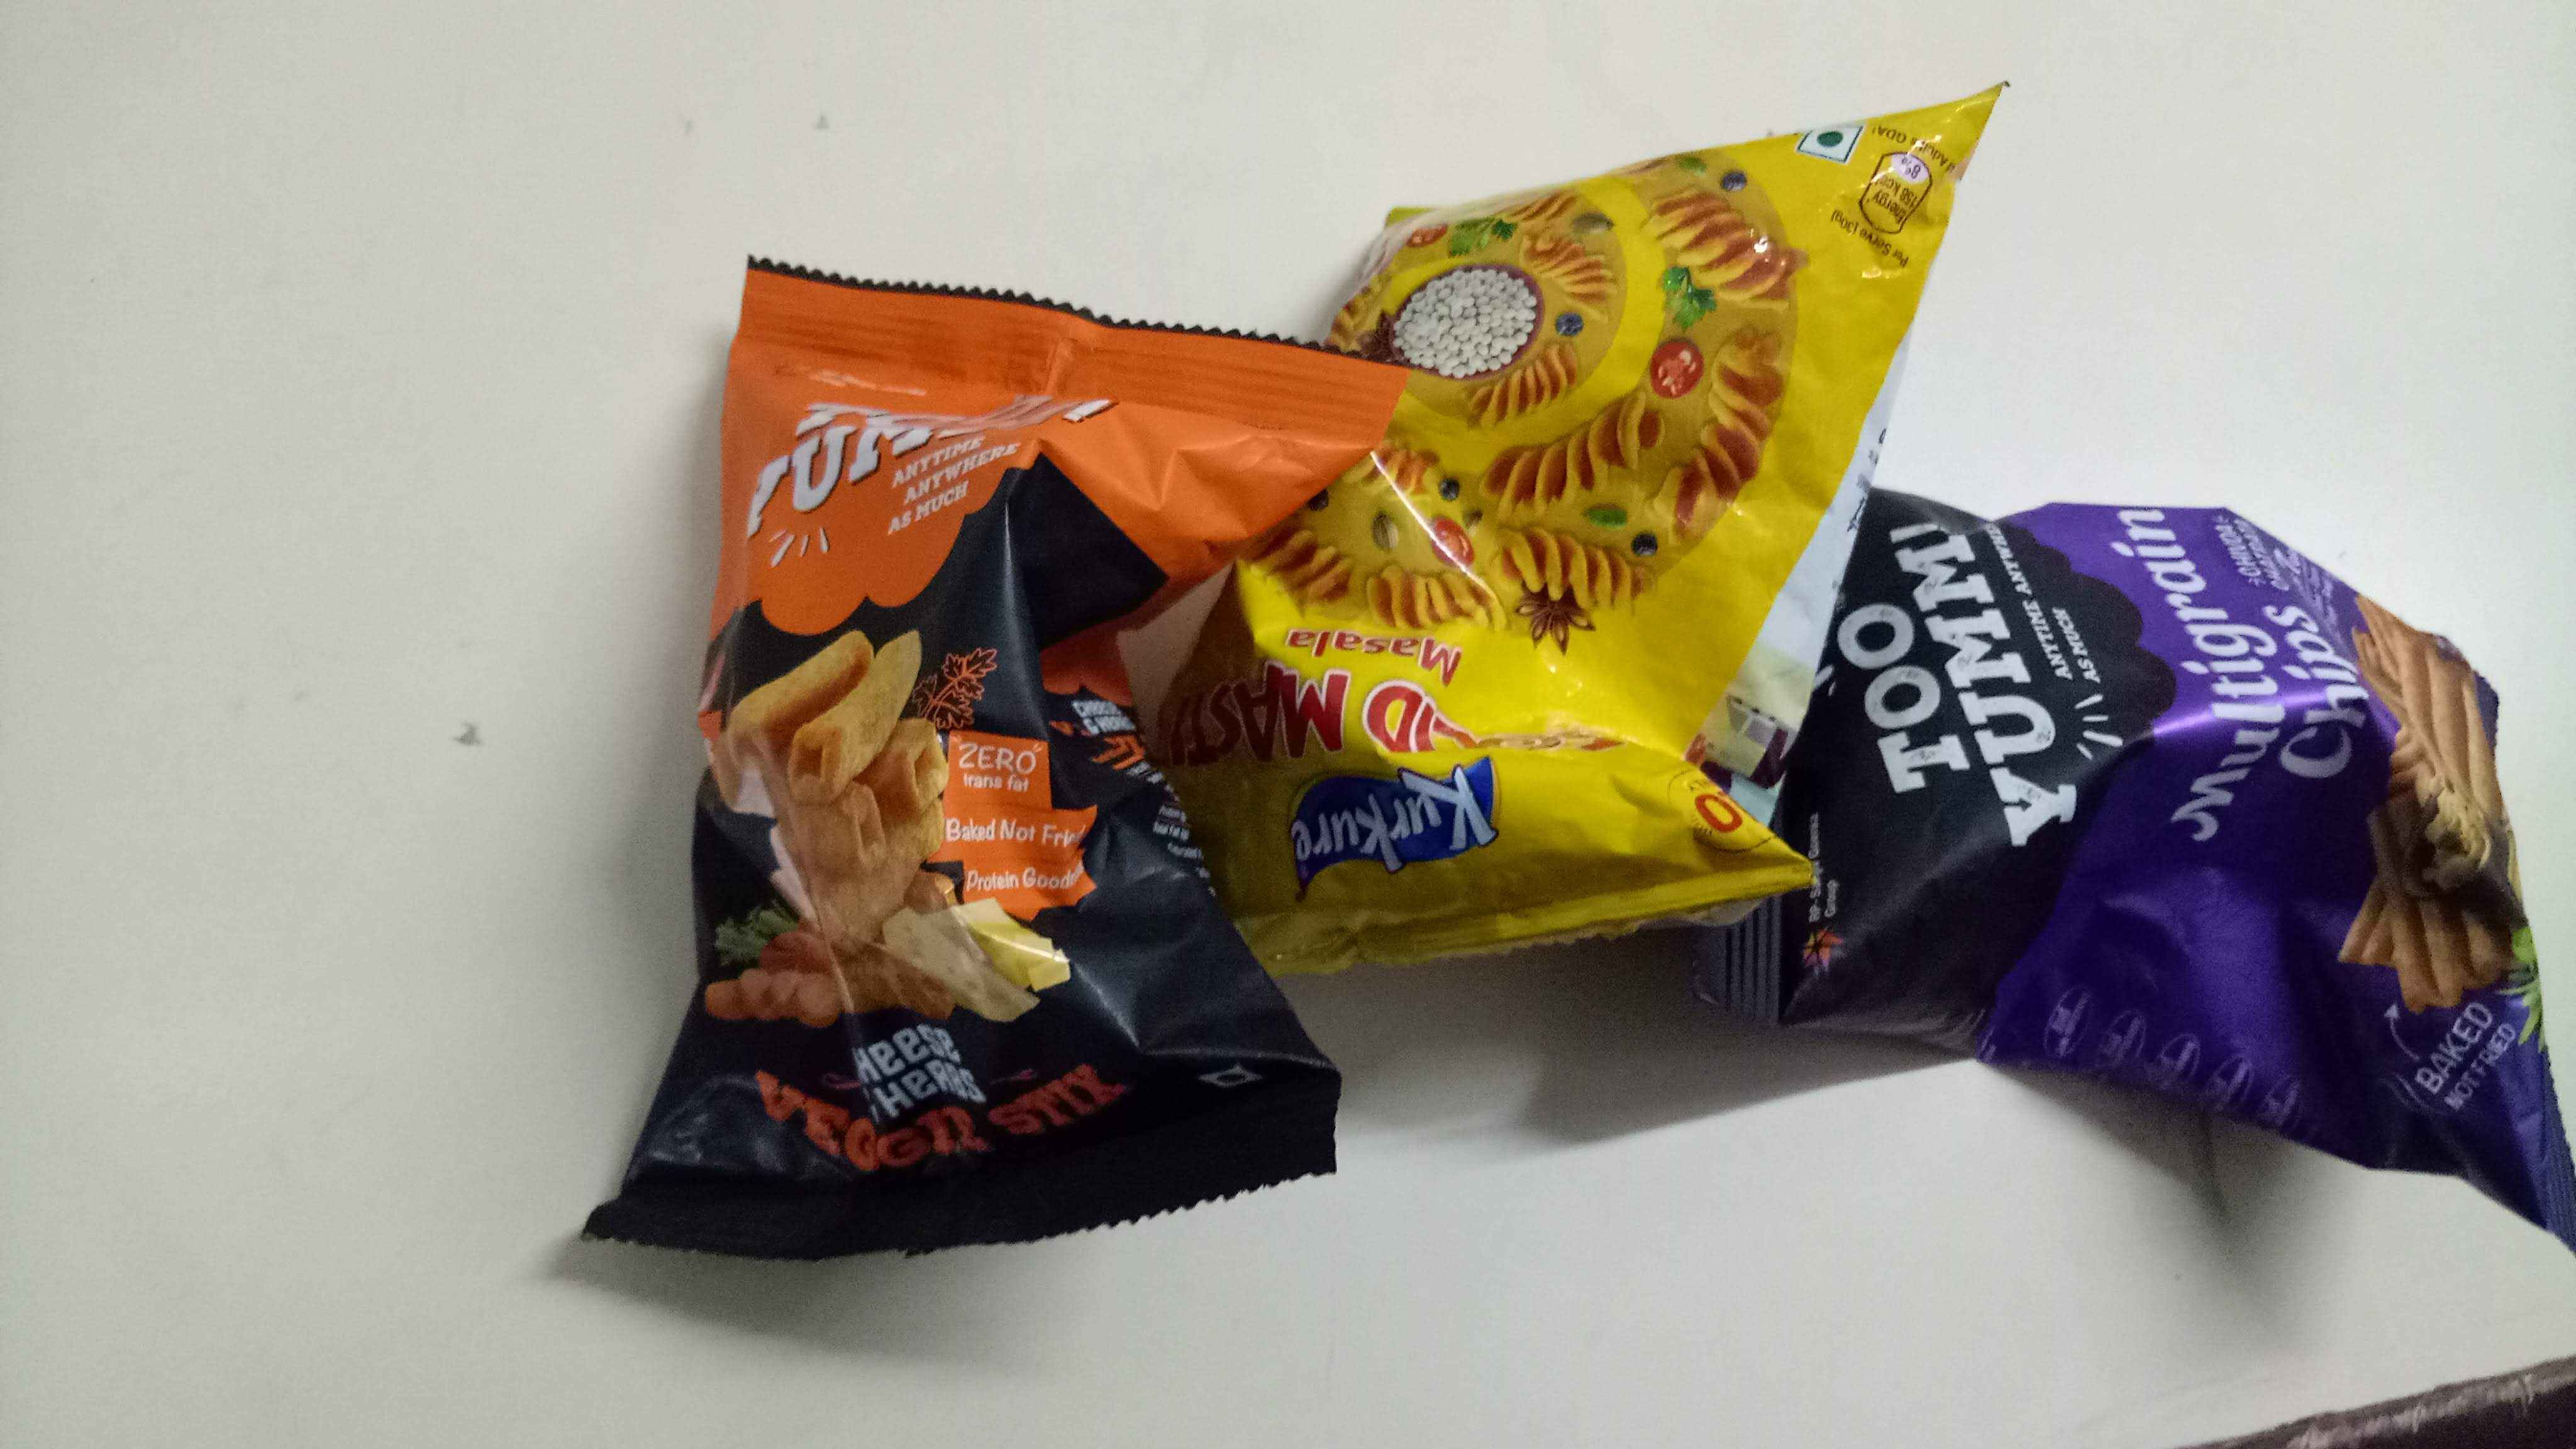kurkure: (1261, 759, 1552, 876)
tooyumm: (1836, 504, 2088, 846), (752, 375, 1108, 577)
